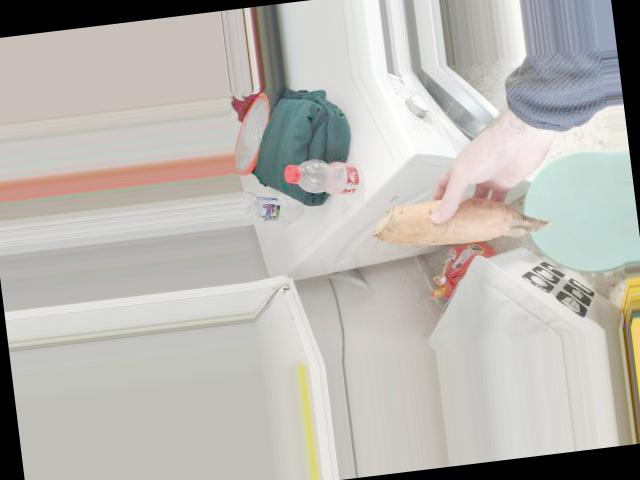sweet_potato: (380, 181, 538, 256)
